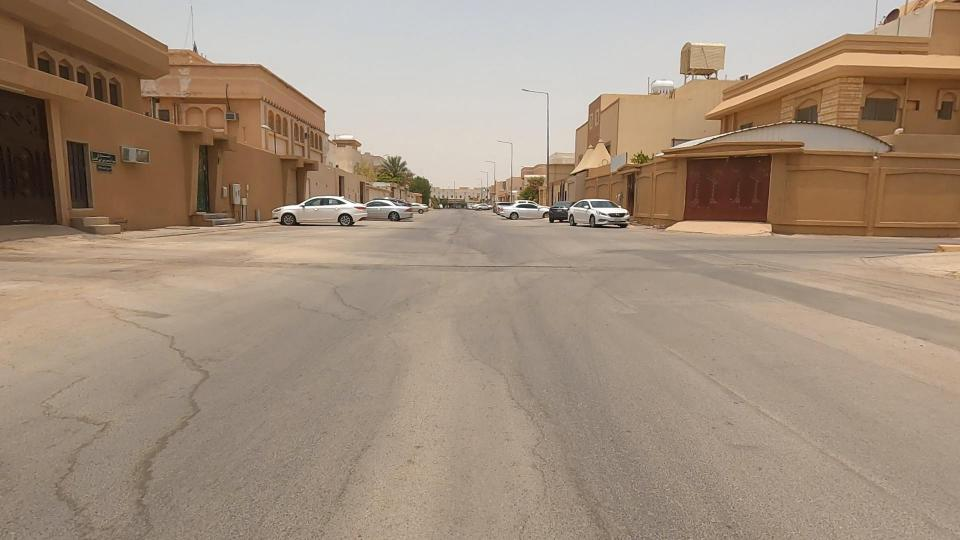POTHOLES: (110, 286, 248, 435), (60, 386, 259, 474), (457, 233, 602, 299), (233, 243, 368, 291), (337, 245, 434, 296)
